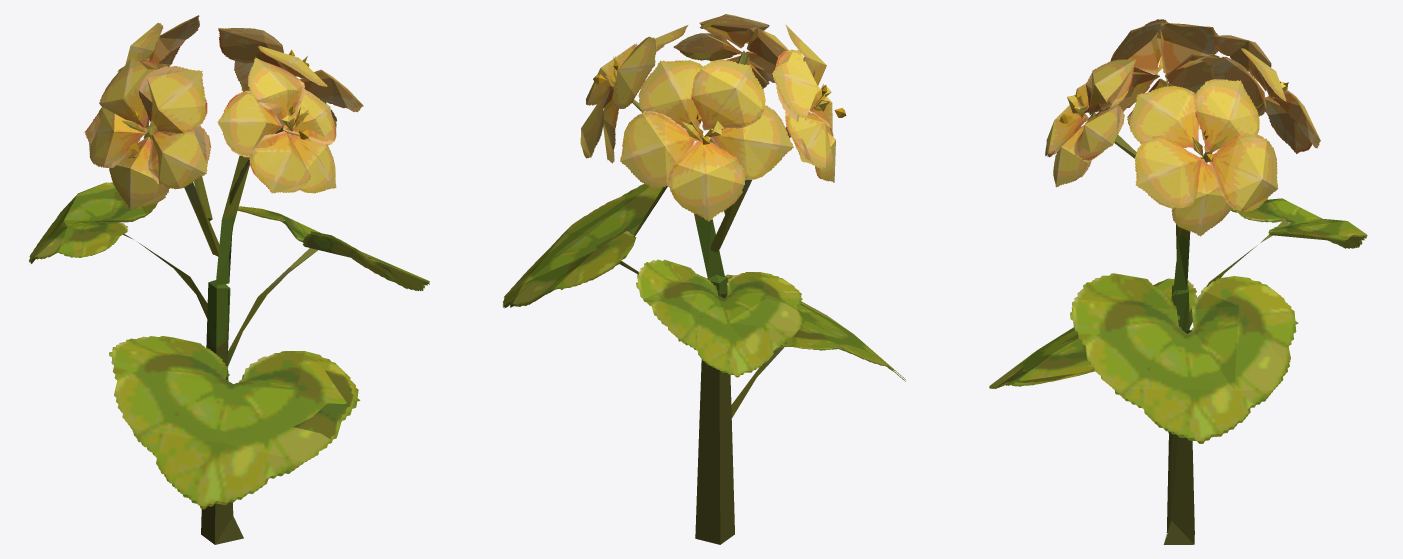
The model's file is gi-QingxinBase_02.glb.
3 renders of one model, left to right at view 1: azimuth 30°, elevation 25°; view 2: azimuth 150°, elevation 25°; view 3: azimuth 270°, elevation 25°, orthographic. The views are drawn at different scales.
Parts seen in each view (by area): view 1: gi-QingxinBase_02; view 2: gi-QingxinBase_02; view 3: gi-QingxinBase_02.
Boxes of the visible parts, left/top/right/bottom form: gi-QingxinBase_02: left=29, top=15, right=429, bottom=544; gi-QingxinBase_02: left=502, top=14, right=905, bottom=544; gi-QingxinBase_02: left=989, top=19, right=1367, bottom=544.
Size of the model in its own units: 0.5777 by 0.7556 by 0.5807.
Materials: 1 (1 with a texture image).
